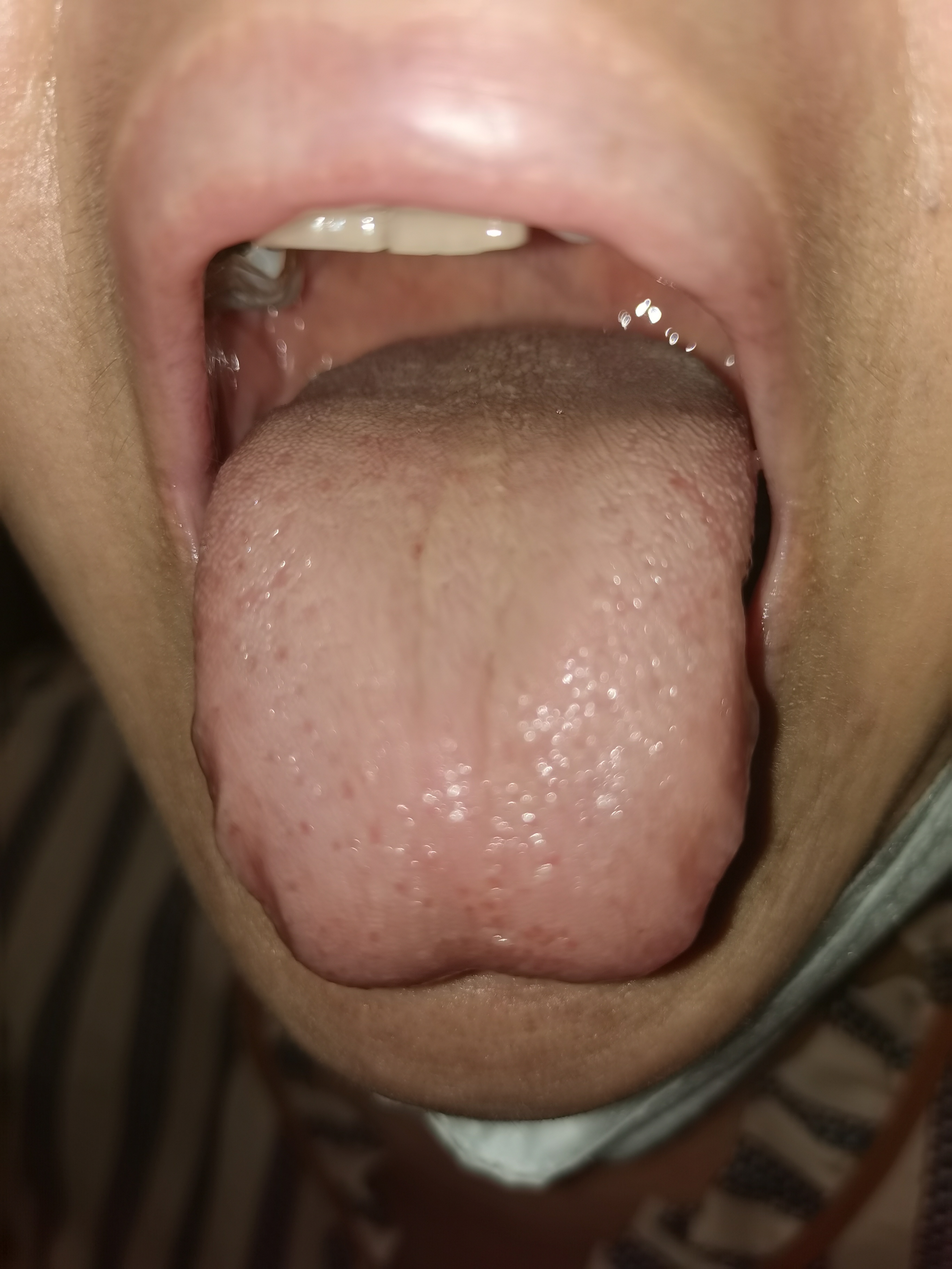baitaishe: (192, 325, 758, 985)
chihenshe: (193, 745, 298, 953)
